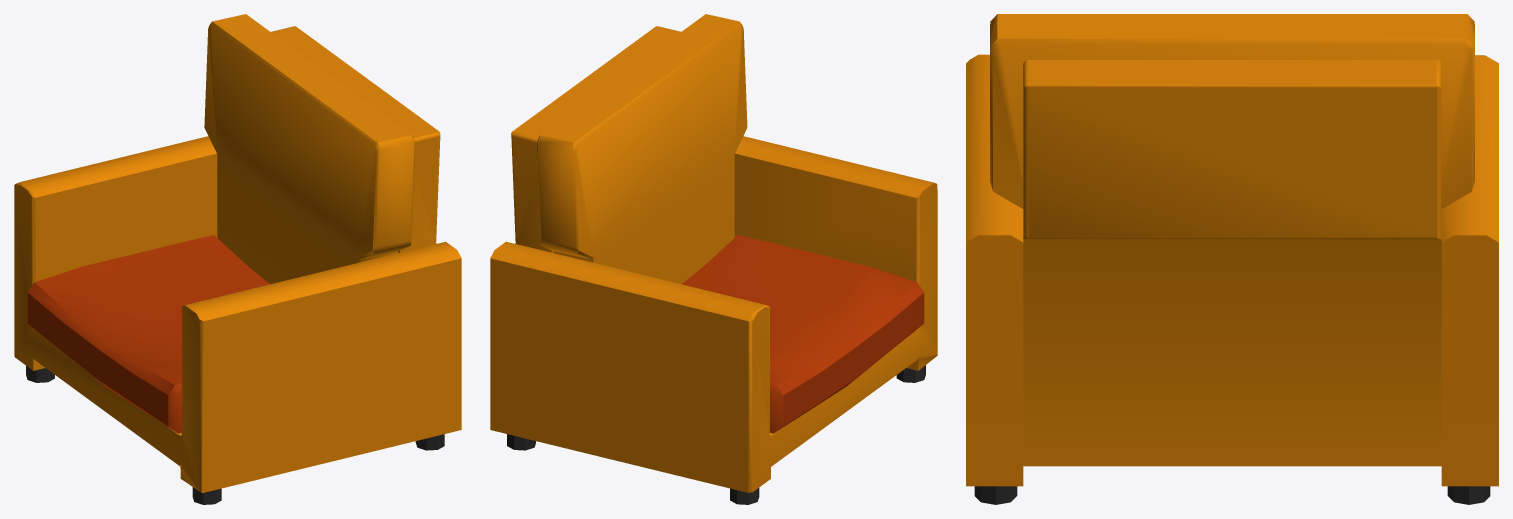
File: Armchair.fbx
3 views of the same model, side by side, from view 1: azimuth 30°, elevation 25°; view 2: azimuth 150°, elevation 25°; view 3: azimuth 270°, elevation 25° (orthographic). The views are drawn at different scales.
Parts seen in each view (by area): view 1: Armchair; view 2: Armchair; view 3: Armchair.
Boxes of the visible parts, x1,y1,x2,y2 form: Armchair: [14, 14, 461, 504]; Armchair: [490, 14, 937, 504]; Armchair: [966, 14, 1498, 504].
Bounding box in the file's own units: 154 × 171 × 185.
Materials: 1 (1 with a texture image).
